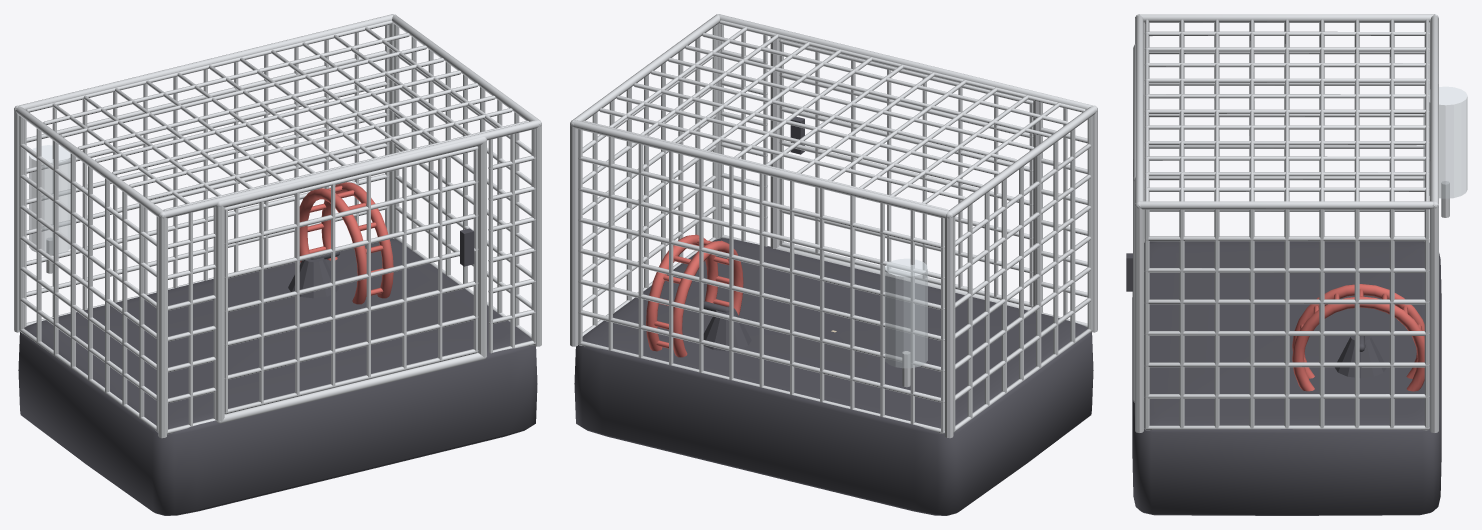
File: pets-and-companions-hd-hamster-cage-cfac875a__28172.glb
3 views of the same model, side by side, from view 1: azimuth 30°, elevation 25°; view 2: azimuth 150°, elevation 25°; view 3: azimuth 270°, elevation 25° (orthographic). The views are drawn at different scales.
Visible parts, largest first — view 1: hamster-cage, cage-door/metal, wheel; view 2: hamster-cage, cage-door/metal, wheel; view 3: hamster-cage, wheel, cage-door/metal.
Boxes of the visible parts, x1,y1,x2,y2 form: hamster-cage: [14, 14, 541, 515]; cage-door/metal: [216, 137, 486, 423]; wheel: [299, 182, 393, 304]; hamster-cage: [570, 14, 1097, 515]; cage-door/metal: [770, 37, 1042, 312]; wheel: [646, 234, 743, 357]; hamster-cage: [1132, 14, 1467, 515]; wheel: [1292, 284, 1424, 391]; cage-door/metal: [1133, 44, 1135, 402].
Size of the model in its own units: 0.62 by 0.474 by 0.463.
